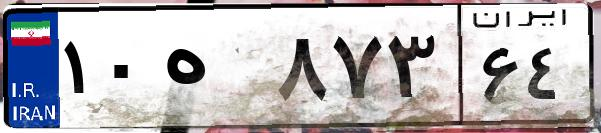0: (110, 28, 158, 98)
1: (57, 26, 110, 100)
3: (385, 28, 445, 110)
4: (525, 38, 570, 115)
6: (475, 38, 525, 113)
7: (330, 28, 385, 110)
8: (270, 28, 330, 110)
ه: (158, 20, 270, 120)
